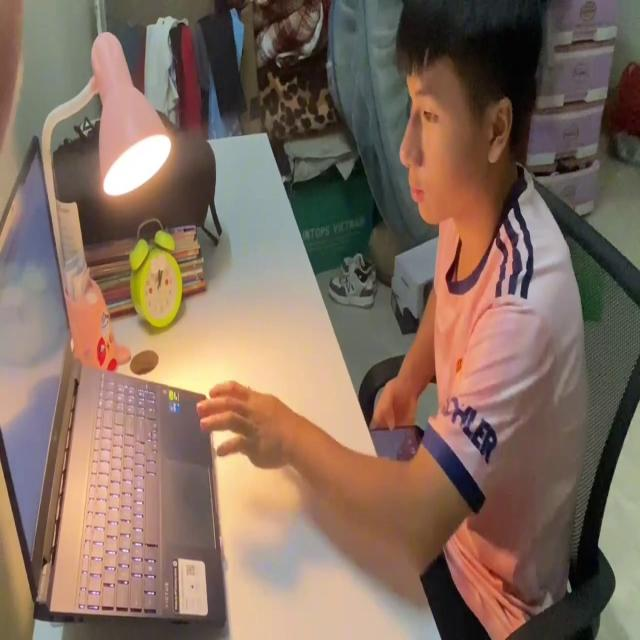laptop: (0, 124, 228, 640)
phone: (366, 420, 422, 470)
student: (197, 0, 591, 640)
